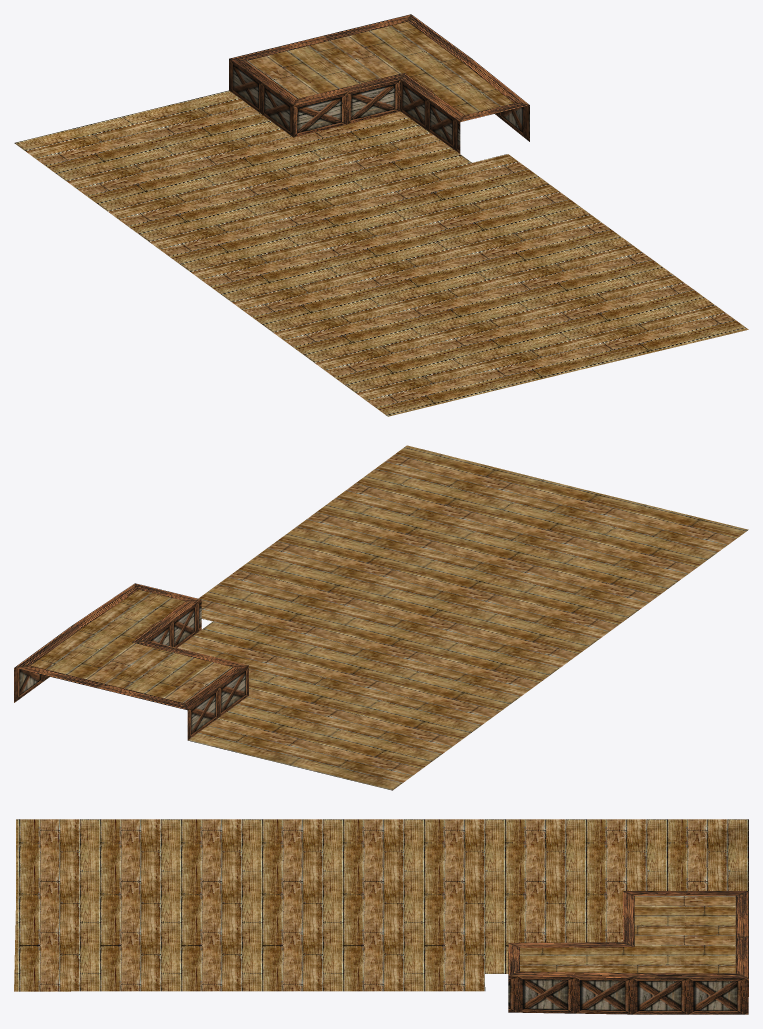
File: LAKETOWN_WAREHOUSE3_PS_WH3_FLOORPAD99484__GX.fbx
The picture shows the model from 3 angles, top to bottom: view 1: azimuth 30°, elevation 25°; view 2: azimuth 150°, elevation 25°; view 3: azimuth 270°, elevation 25°; orthographic projection. The views are drawn at different scales.
Visible parts, largest first — view 1: LAKETOWN_WAREHOUSE3_PS_WH3_FLOORPAD99484__GX; view 2: LAKETOWN_WAREHOUSE3_PS_WH3_FLOORPAD99484__GX; view 3: LAKETOWN_WAREHOUSE3_PS_WH3_FLOORPAD99484__GX.
Part boxes in pixels (x1,y1,x2,y2): LAKETOWN_WAREHOUSE3_PS_WH3_FLOORPAD99484__GX: [14, 14, 748, 416]; LAKETOWN_WAREHOUSE3_PS_WH3_FLOORPAD99484__GX: [14, 445, 748, 790]; LAKETOWN_WAREHOUSE3_PS_WH3_FLOORPAD99484__GX: [14, 819, 748, 1014].
Bounding box in the file's own units: 111055 × 9908 × 181575.
Materials: 4 (4 with a texture image).
